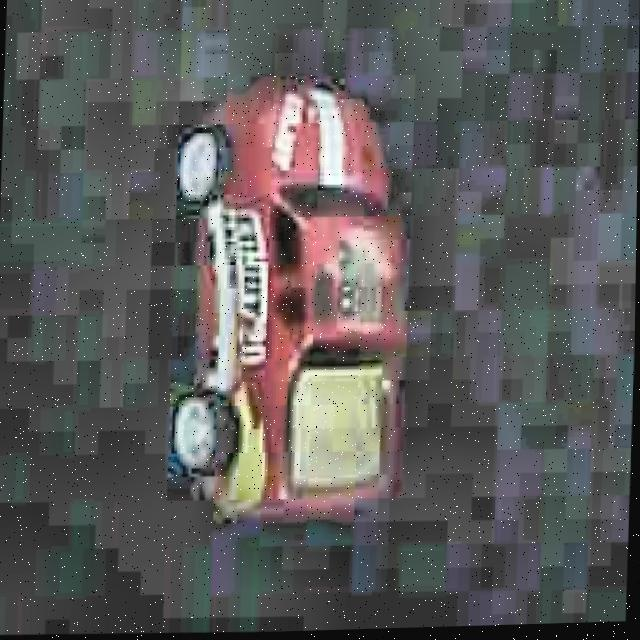car: (156, 60, 425, 532)
